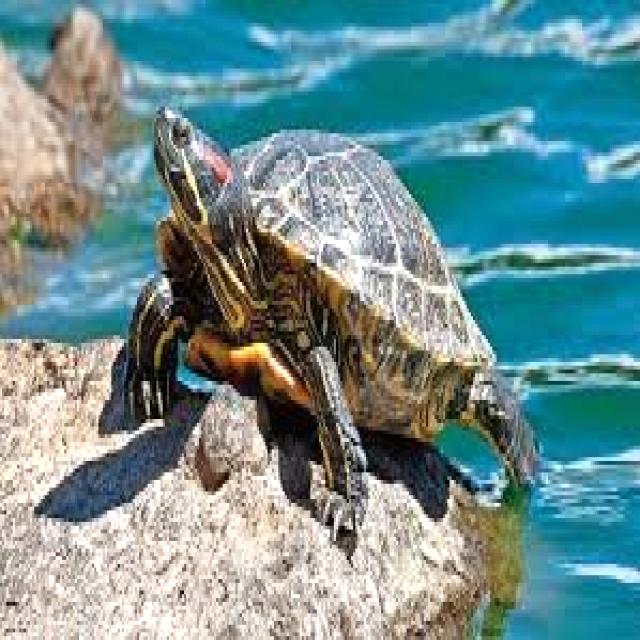Sea turtle: (132, 94, 544, 554)
